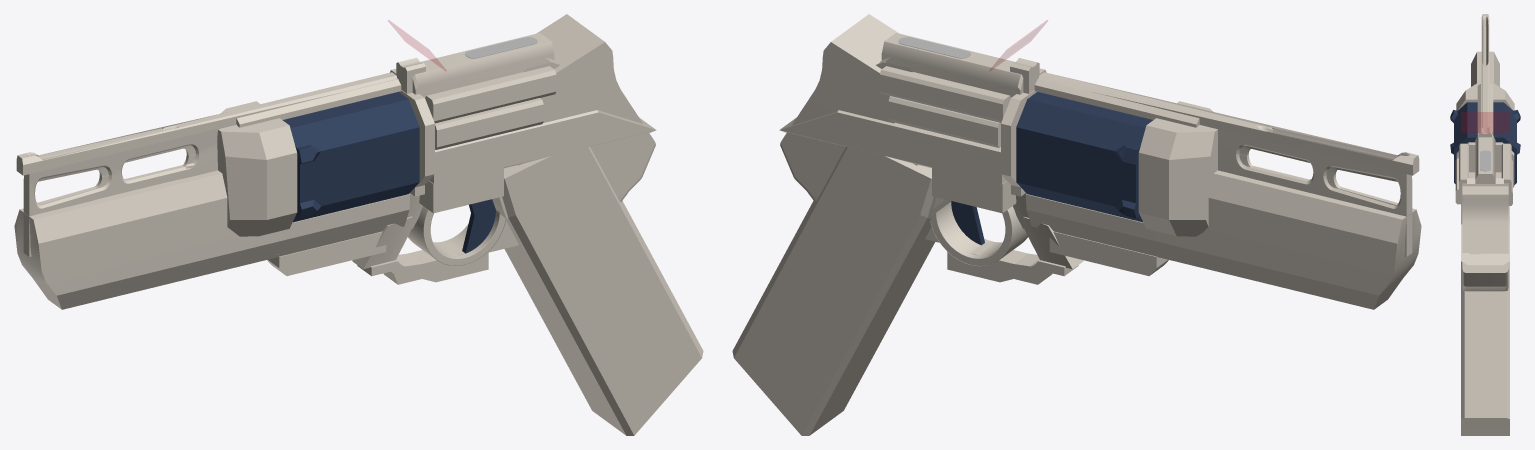
File: prototype_default.fbx
The picture shows the model from 3 angles, left to right: view 1: azimuth 30°, elevation 25°; view 2: azimuth 150°, elevation 25°; view 3: azimuth 270°, elevation 25°; orthographic projection. The views are drawn at different scales.
Parts seen in each view (by area): view 1: pCube2, pCube87, pCube70, pCube82, pCube43, pCube69, polySurface5, polySurface2, pCube14, pCube15, pCube16, pCube5 (+12 smaller); view 2: pCube2, pCube87, pCube70, pCube82, pCube43, pCube69, polySurface5, polySurface2, pCube14, pCube19, pCube18, pTorus14 (+12 smaller); view 3: pCube2, pCube82, pCube70, pCube12, polySurface2, pCube69, pCube14, pCube87, pCube43, pCube80, pCube19, pCube67 (+6 smaller).
Part boxes in pixels (<box>): pCube2: <box>492,146,703,435</box>; pCube87: <box>14,170,282,309</box>; pCube70: <box>282,92,419,222</box>; pCube82: <box>536,14,655,201</box>; pCube43: <box>217,101,297,236</box>; pCube69: <box>429,110,656,184</box>; polySurface5: <box>23,124,236,256</box>; polySurface2: <box>16,72,397,175</box>; pCube14: <box>412,33,554,97</box>; pCube15: <box>425,66,556,123</box>; pCube16: <box>435,98,543,149</box>; pCube5: <box>357,243,488,284</box>; pCube2: <box>732,146,951,435</box>; pCube87: <box>1153,170,1421,309</box>; pCube70: <box>1016,92,1153,222</box>; pCube82: <box>780,14,899,201</box>; pCube43: <box>1138,101,1217,236</box>; pCube69: <box>779,110,1006,184</box>; polySurface5: <box>1199,124,1412,256</box>; polySurface2: <box>1038,72,1419,175</box>; pCube14: <box>881,33,1023,97</box>; pCube19: <box>879,66,1010,123</box>; pCube18: <box>888,96,1000,147</box>; pTorus14: <box>930,202,1027,266</box>; pCube2: <box>1461,261,1509,435</box>; pCube82: <box>1462,183,1508,291</box>; pCube70: <box>1450,102,1520,184</box>; pCube12: <box>1461,112,1509,132</box>; polySurface2: <box>1481,14,1489,127</box>; pCube69: <box>1461,172,1509,265</box>; pCube14: <box>1475,134,1495,183</box>; pCube87: <box>1471,51,1499,86</box>; pCube43: <box>1456,82,1514,110</box>; pCube80: <box>1456,142,1514,187</box>; pCube19: <box>1501,143,1511,194</box>; pCube67: <box>1477,83,1493,134</box>.
Size of the model in its own units: 9.44 by 5.92 by 1.44.
